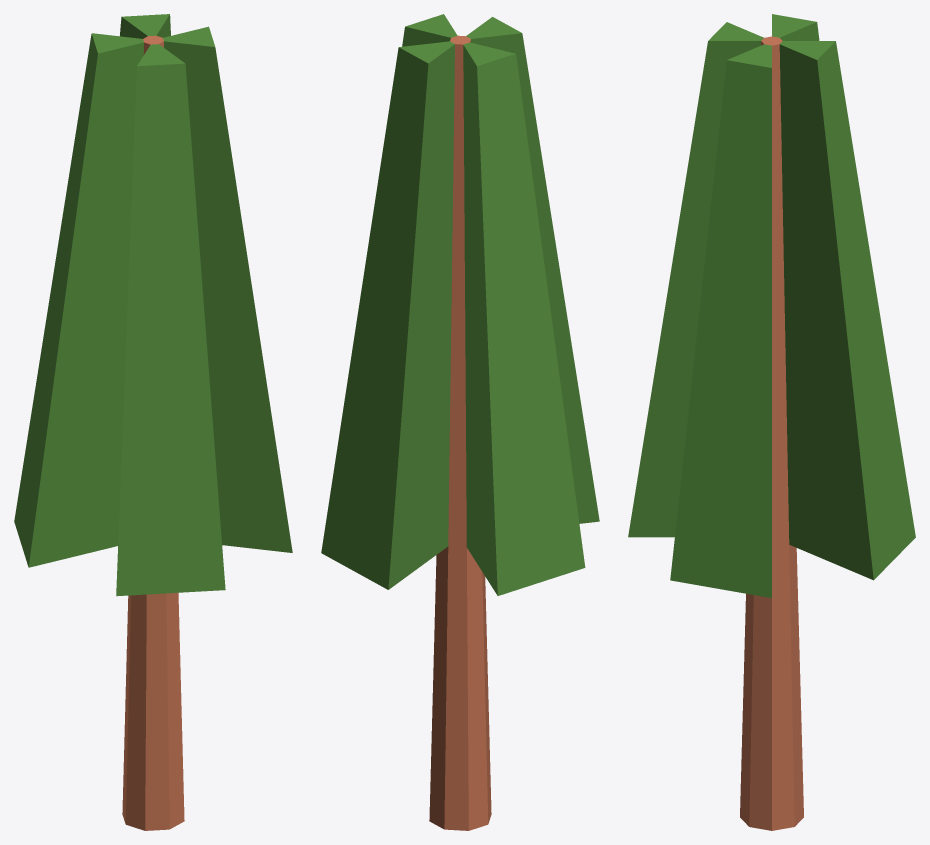
File: Tree_28_summer_mat.fbx
3 renders of one model, left to right at view 1: azimuth 30°, elevation 25°; view 2: azimuth 150°, elevation 25°; view 3: azimuth 270°, elevation 25°, orthographic.
Parts seen in each view (by area): view 1: Tree_28_summer_mat; view 2: Tree_28_summer_mat; view 3: Tree_28_summer_mat.
Part boxes in pixels (x1,y1,x2,y2): Tree_28_summer_mat: (14,14,292,830); Tree_28_summer_mat: (321,14,599,830); Tree_28_summer_mat: (628,14,915,830).
Size of the model in its own units: 3.96 by 11.78 by 3.96.
